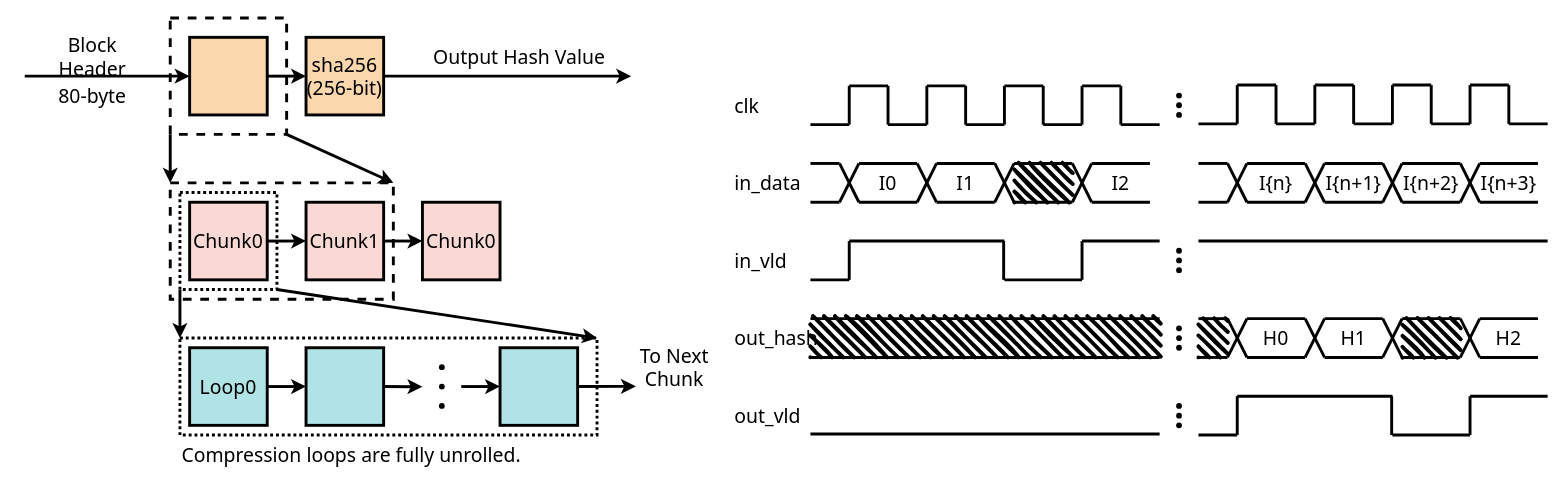
This 1567x491 diagram has some shape labels left out. Here are the shapes that lost their labels. From the top down, the box of each, then its label:
(188, 35, 268, 116): sha256 (640-bit)
(304, 346, 385, 426): Loop1
(498, 346, 579, 426): Loop63
